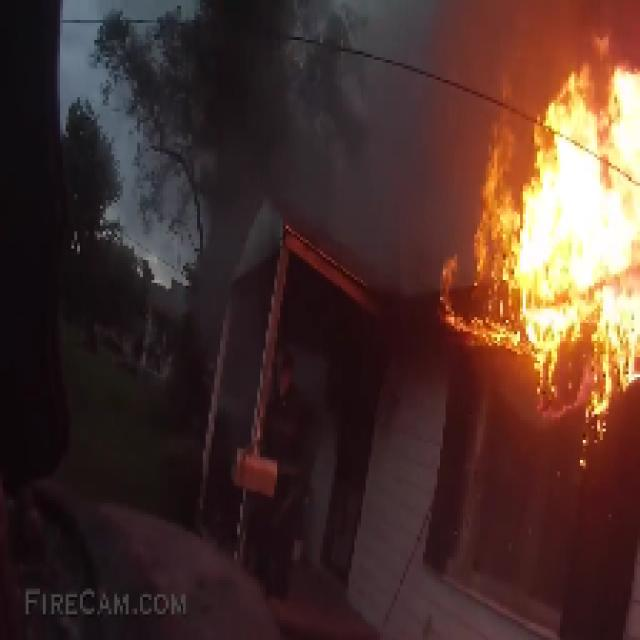fire: (520, 74, 640, 360)
